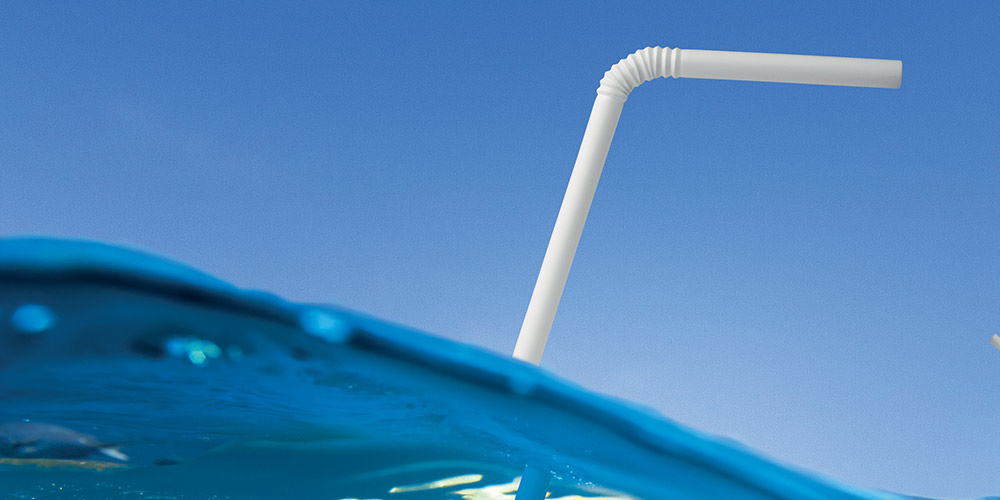PP: (511, 46, 902, 358)
